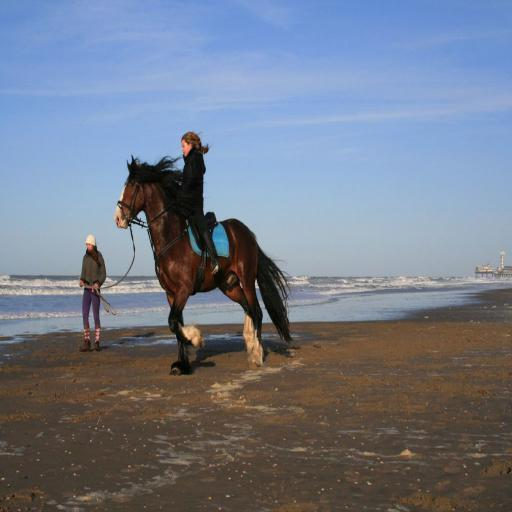horse: (113, 150, 299, 370)
